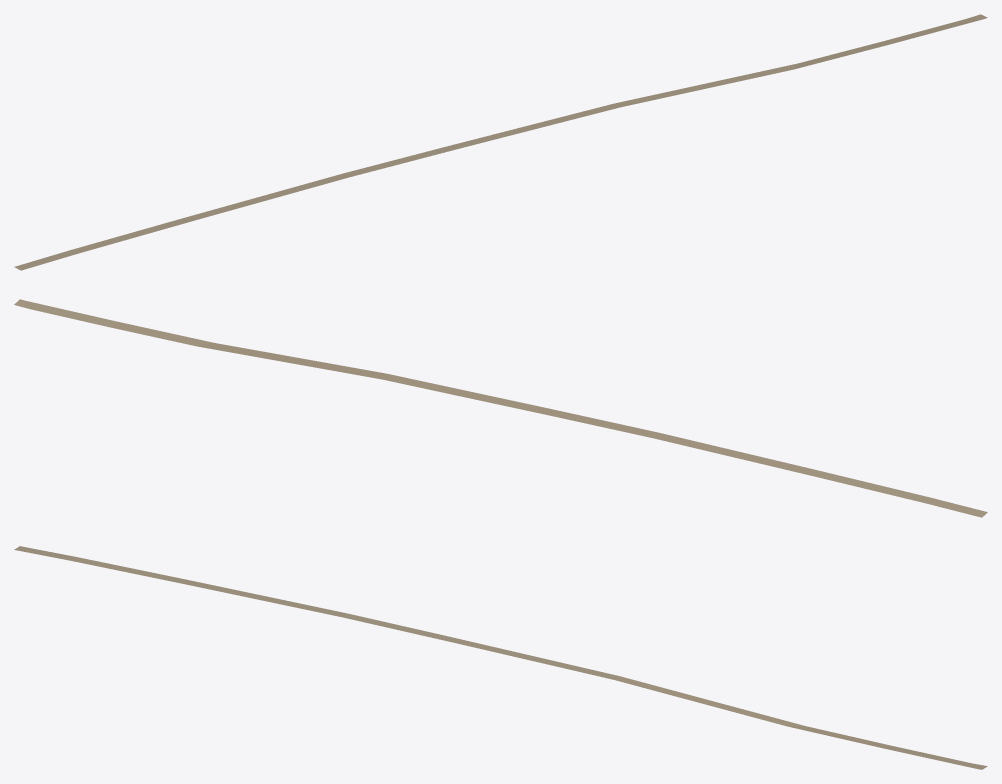
Rendered from farm_-31_-23_track.glb.
The picture shows the model from 3 angles, top to bottom: view 1: azimuth 30°, elevation 25°; view 2: azimuth 150°, elevation 25°; view 3: azimuth 330°, elevation 25°; orthographic projection. The views are drawn at different scales.
Visible parts, largest first — view 1: geometry_0; view 2: geometry_0; view 3: geometry_0.
Boxes of the visible parts, box(x1,y1,x2,y2) form: geometry_0: box(14, 14, 987, 270); geometry_0: box(14, 299, 987, 517); geometry_0: box(14, 546, 987, 769).
Bounding box in the file's own units: 285 × 3.31 × 13.8.
